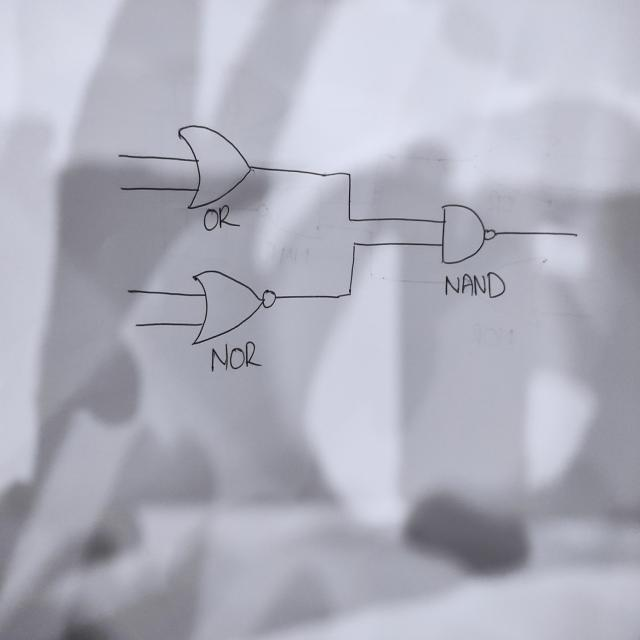junction: (344, 287, 353, 300), (350, 238, 358, 250), (345, 214, 353, 225), (345, 169, 353, 179)
terminal: (570, 229, 580, 241), (115, 151, 123, 161), (125, 286, 132, 296), (118, 184, 125, 193), (133, 321, 139, 328)
text: (445, 268, 505, 302), (210, 339, 262, 372), (202, 202, 240, 232)
